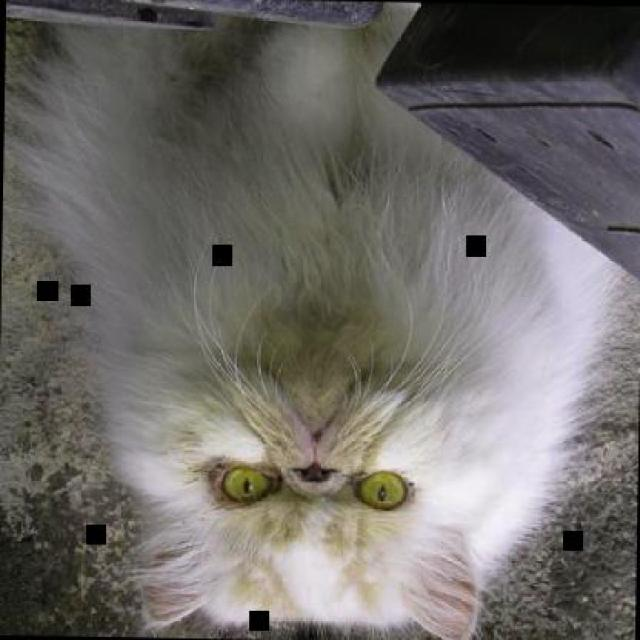cat: (14, 0, 611, 638)
